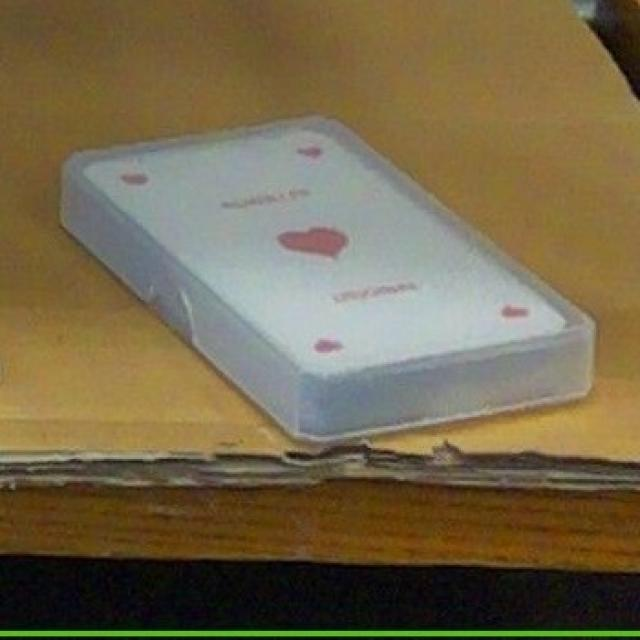Jasskarte: (62, 117, 592, 439)
